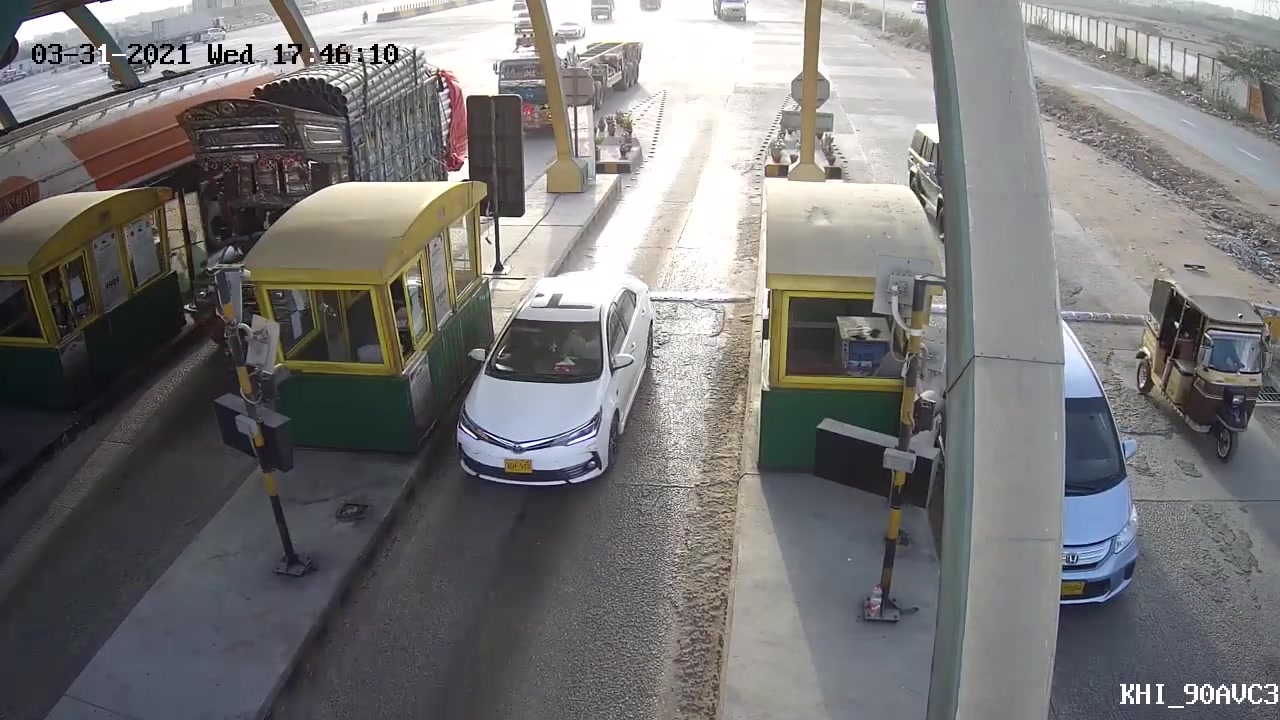F1: (447, 268, 656, 499)
